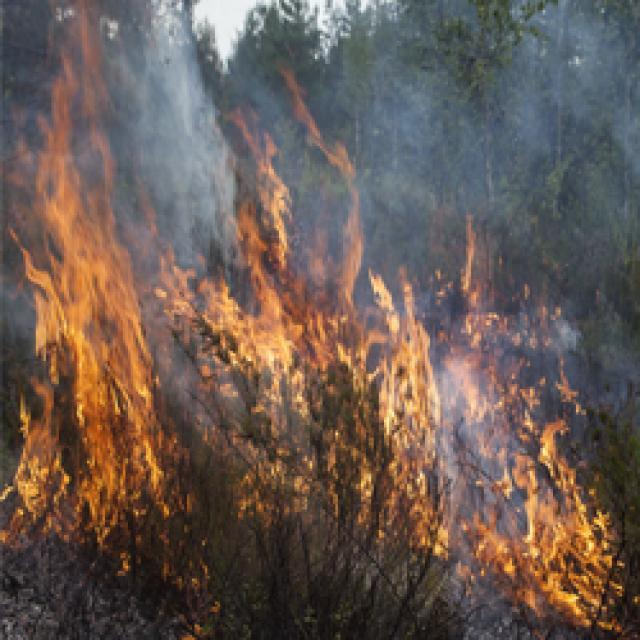Fire: (223, 74, 448, 563), (0, 0, 144, 552), (464, 230, 620, 628), (146, 217, 224, 393), (114, 552, 210, 590), (177, 599, 224, 640)
Smoke: (369, 0, 640, 265), (123, 0, 231, 211), (436, 361, 526, 526), (451, 577, 508, 640)
